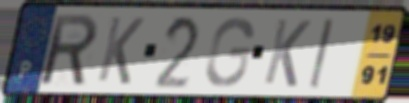2: (150, 14, 205, 90)
G: (203, 16, 256, 89)
I: (306, 16, 336, 91)
K: (94, 14, 147, 88), (260, 17, 313, 90)
R: (40, 12, 100, 88)
